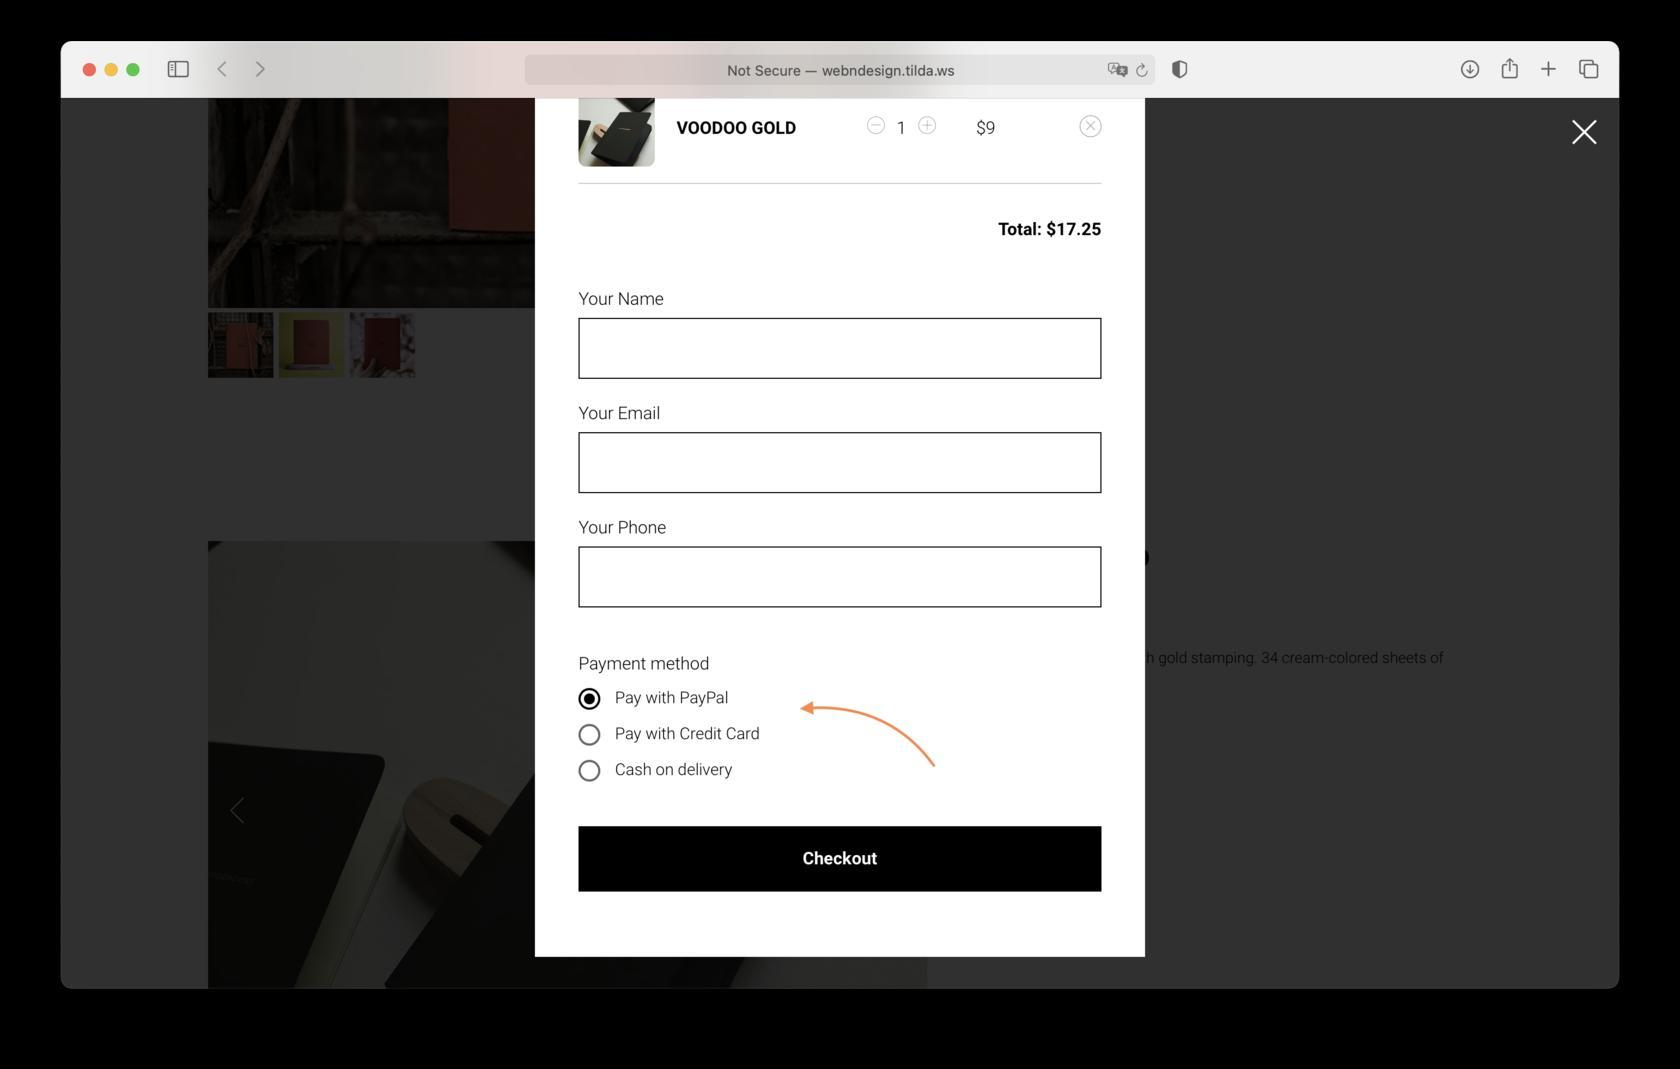button: (577, 824, 1106, 896)
input: (577, 433, 1104, 492), (577, 550, 1103, 609), (580, 321, 1104, 380)
label: (613, 724, 762, 746), (617, 760, 742, 782), (615, 688, 731, 711), (571, 516, 673, 540), (576, 400, 669, 425), (576, 287, 669, 309)
radio: (577, 724, 606, 748), (578, 686, 602, 714), (577, 760, 602, 782)
